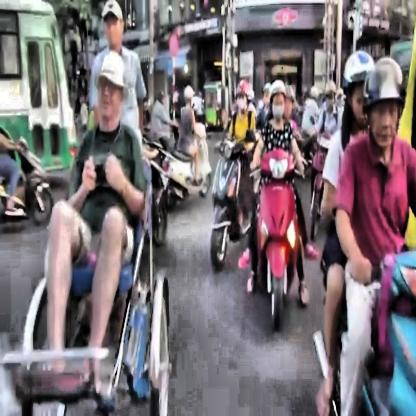wear: (360, 60, 406, 148), (268, 79, 288, 122), (234, 75, 250, 113), (325, 78, 338, 113)
